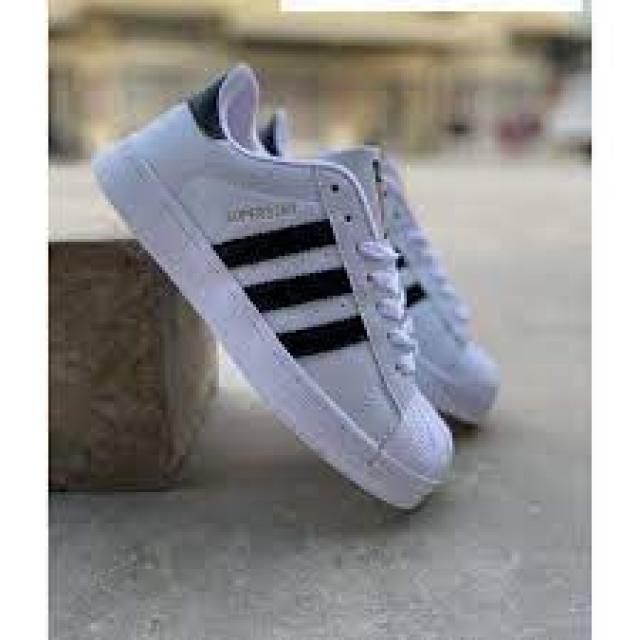shoe: (90, 57, 458, 518)
